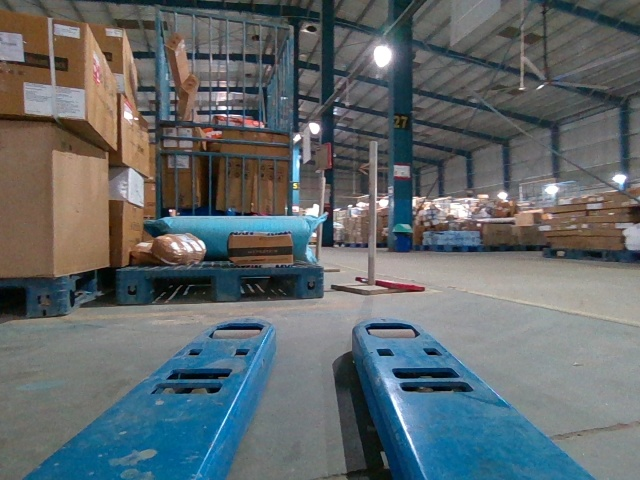block: (26, 275, 70, 318), (115, 268, 151, 302), (215, 268, 242, 299), (302, 267, 323, 294)
front: (117, 266, 323, 301)
hole pallet: (238, 268, 305, 300), (145, 273, 217, 302)
